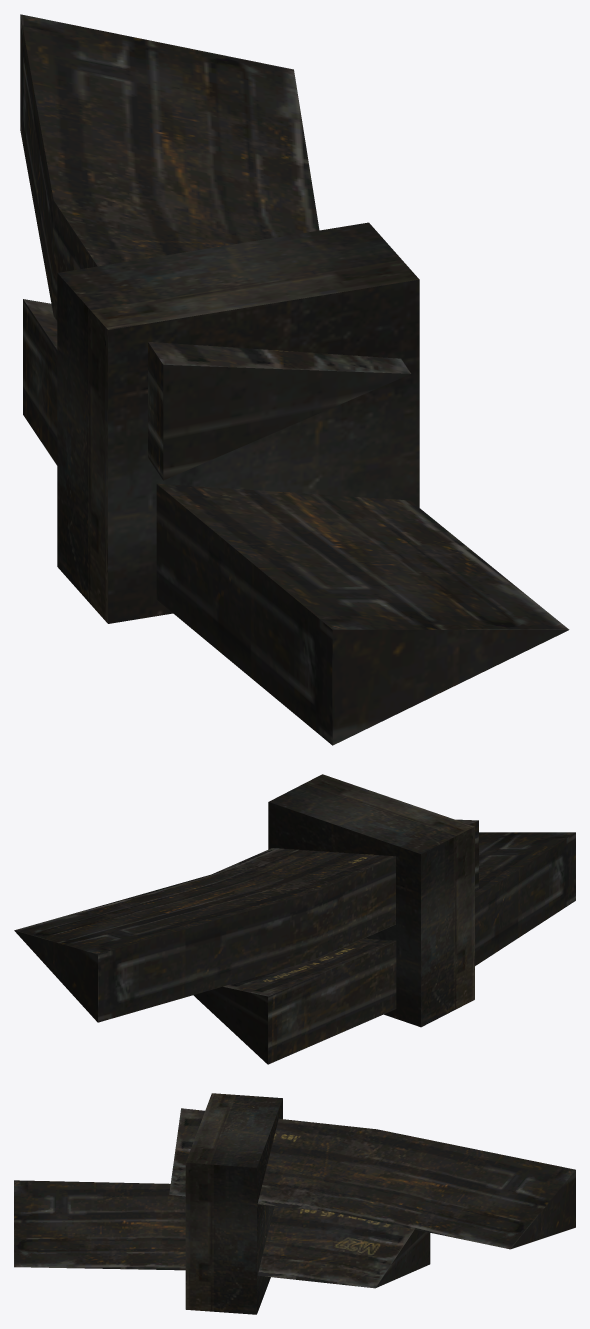
The model's file is t6_attach_fastmag_hk416_world_LOD2.obj.
The picture shows the model from 3 angles, top to bottom: view 1: azimuth 30°, elevation 25°; view 2: azimuth 150°, elevation 25°; view 3: azimuth 270°, elevation 25°; orthographic projection. The views are drawn at different scales.
Parts seen in each view (by area): view 1: mtl_t6_wpn_ar_hk416_camo2, mtl_t6_wpn_ar_hk416_camo4; view 2: mtl_t6_wpn_ar_hk416_camo2, mtl_t6_wpn_ar_hk416_camo4; view 3: mtl_t6_wpn_ar_hk416_camo2.
Part boxes in pixels (<box>): mtl_t6_wpn_ar_hk416_camo2: <box>20,14,569,745</box>; mtl_t6_wpn_ar_hk416_camo4: <box>20,15,332,745</box>; mtl_t6_wpn_ar_hk416_camo2: <box>14,774,575,1064</box>; mtl_t6_wpn_ar_hk416_camo4: <box>98,820,575,1064</box>; mtl_t6_wpn_ar_hk416_camo2: <box>14,1093,575,1314</box>.
Size of the model in its own units: 11.49 by 6.67 by 23.1.
